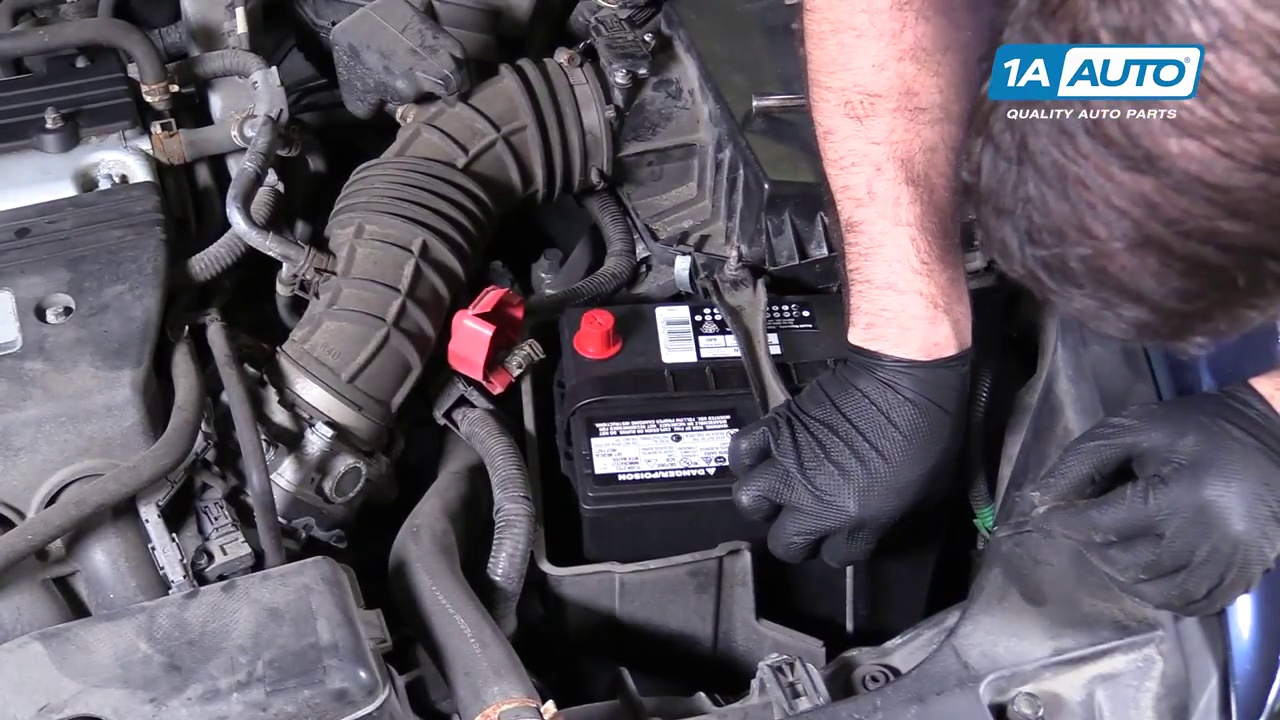battery: (556, 294, 848, 490)
pos_disconnected: (435, 278, 628, 412)
